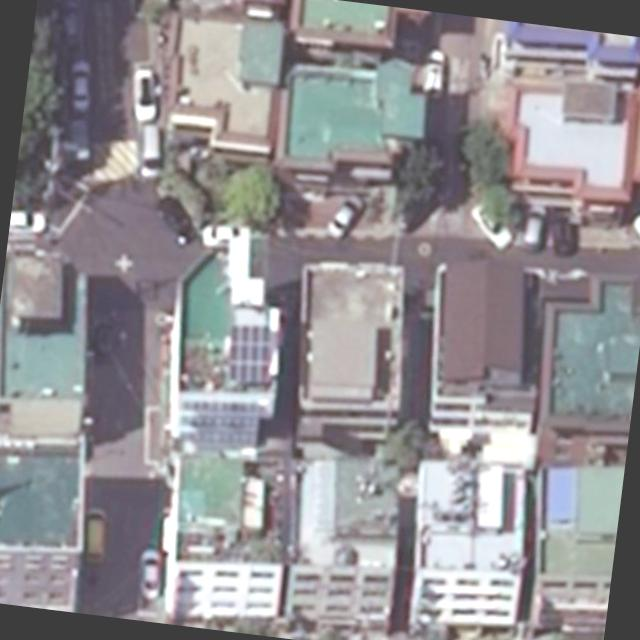solar: (222, 320, 276, 390)
